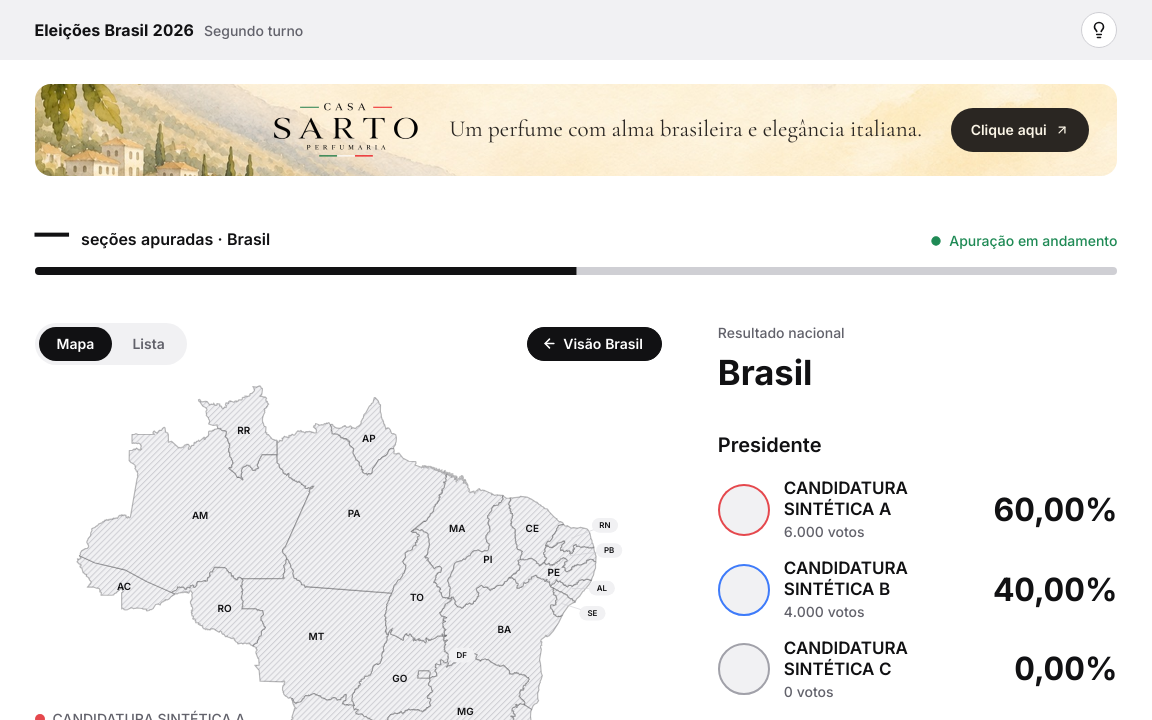
PresidentPage — mapa por UF › deve mostrar os percentuais da UF na lista textual
The width and height of the screenshot is (1152, 720).
Expected: the heading "Presidente" is shown, [718,433,822,457]
Click the button "Lista".
click(149, 344)  # box [114,327,183,361]
(page scrolled)
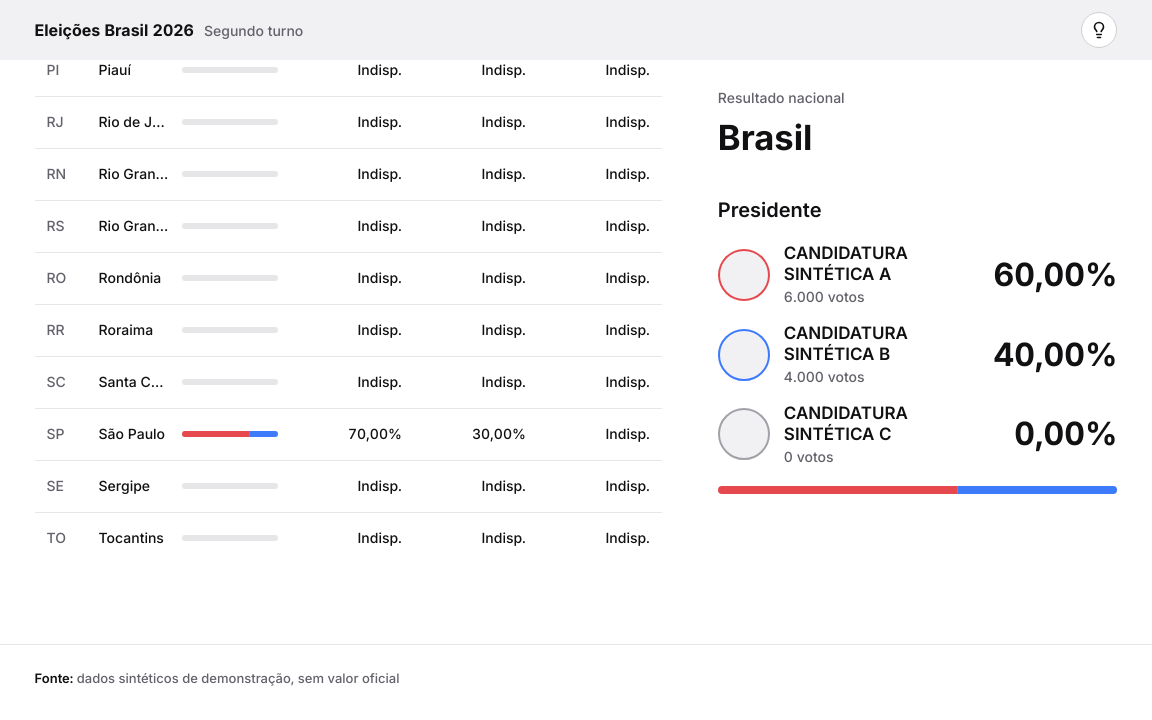
Now the text "70,00%" is shown, box [348,425,402,442]
Now the text "30,00%" is shown, box [472,425,526,442]
